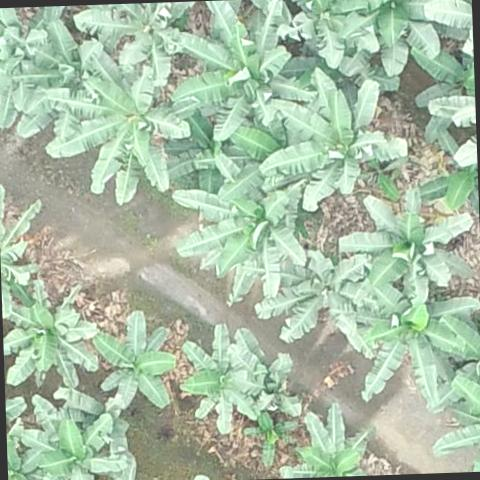Banana-plant: (174, 2, 316, 142), (50, 65, 189, 202), (172, 178, 312, 301), (337, 193, 468, 302), (363, 280, 476, 404), (276, 78, 394, 192), (254, 248, 379, 351), (2, 291, 97, 389), (76, 2, 194, 80), (23, 398, 129, 480), (13, 31, 104, 125), (97, 313, 178, 408), (184, 332, 262, 424), (162, 107, 243, 194), (348, 0, 467, 59), (283, 402, 369, 478), (285, 0, 376, 64), (252, 409, 291, 465)
